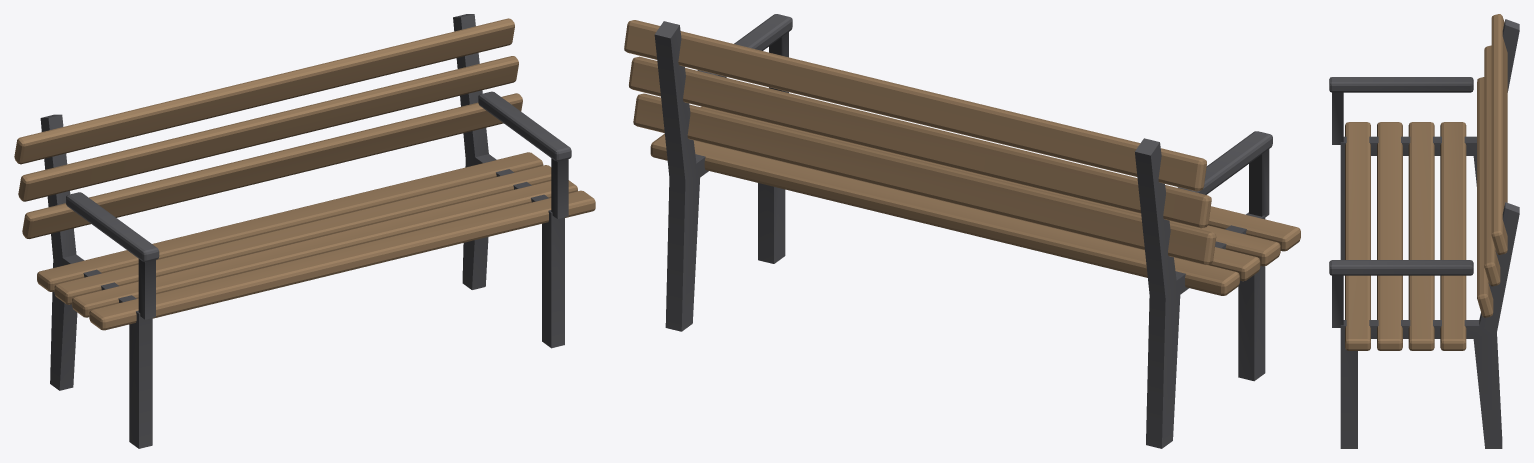
Rendered from st_bench.glb.
The picture shows the model from 3 angles, left to right: view 1: azimuth 30°, elevation 25°; view 2: azimuth 150°, elevation 25°; view 3: azimuth 270°, elevation 25°; orthographic projection. The views are drawn at different scales.
Visible parts, largest first — view 1: body; view 2: body; view 3: body.
Part boxes in pixels (bbox=[...]): body: bbox=[14, 14, 595, 448]; body: bbox=[624, 14, 1300, 448]; body: bbox=[1329, 14, 1519, 448].
Size of the model in its own units: 1.8 by 0.92 by 0.66.
